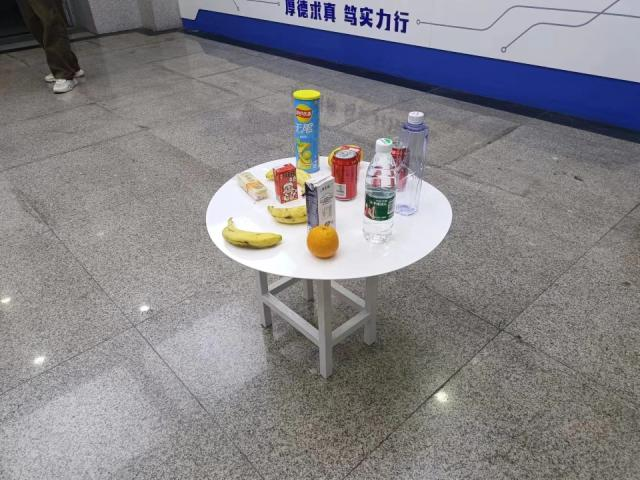Canned_drinks: (330, 149, 360, 204)
bottle: (362, 136, 399, 246), (398, 111, 430, 221)
cylinder: (292, 88, 321, 173)
drink_box: (306, 172, 338, 233), (274, 164, 300, 205)
